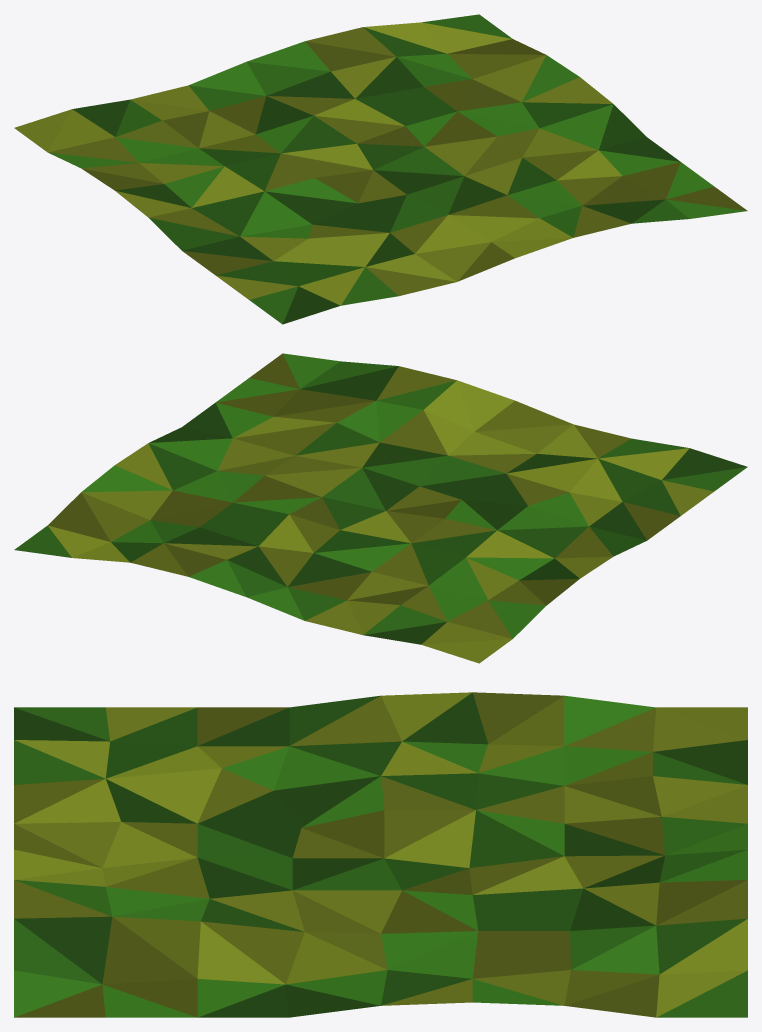
Rendered from simplePlane.obj.
3 renders of one model, top to bottom at view 1: azimuth 30°, elevation 25°; view 2: azimuth 150°, elevation 25°; view 3: azimuth 270°, elevation 25°, orthographic. The views are drawn at different scales.
Visible parts, largest first — view 1: Plane; view 2: Plane; view 3: Plane.
Boxes of the visible parts, left/top/right/bottom form: Plane: left=14, top=14, right=747, bottom=324; Plane: left=14, top=353, right=747, bottom=663; Plane: left=14, top=692, right=747, bottom=1017.
Bounding box in the file's own units: 10 × 0.3227 × 10.
